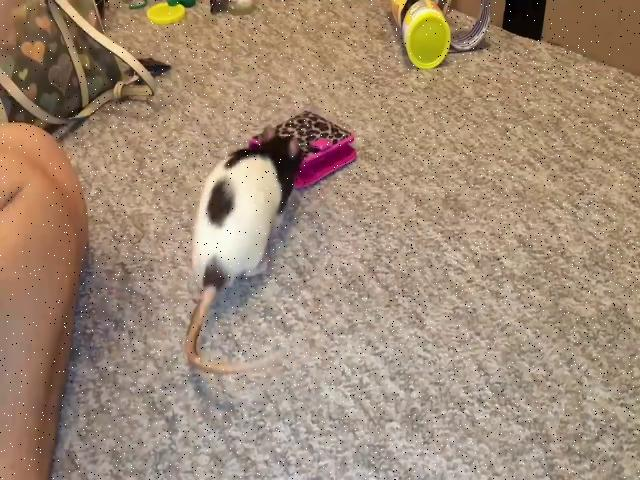Tikus: (182, 120, 290, 384)
